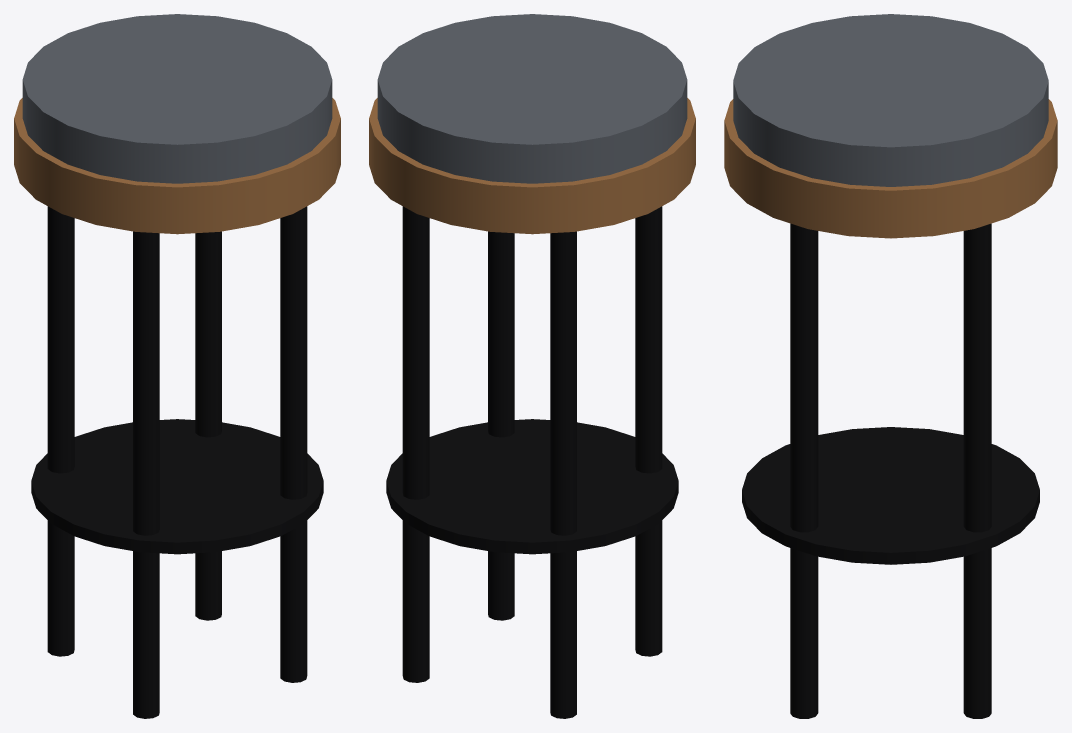
Rendered from Chair_Bar_Stool.fbx.
The picture shows the model from 3 angles, left to right: view 1: azimuth 30°, elevation 25°; view 2: azimuth 150°, elevation 25°; view 3: azimuth 270°, elevation 25°; orthographic projection.
Visible parts, largest first — view 1: Chair_Bar_Stool; view 2: Chair_Bar_Stool; view 3: Chair_Bar_Stool.
Boxes of the visible parts, x1,y1,x2,y2 form: Chair_Bar_Stool: [14, 14, 340, 718]; Chair_Bar_Stool: [369, 14, 695, 718]; Chair_Bar_Stool: [724, 14, 1057, 718].
Bounding box in the file's own units: 0.38 × 0.38 × 0.75.
